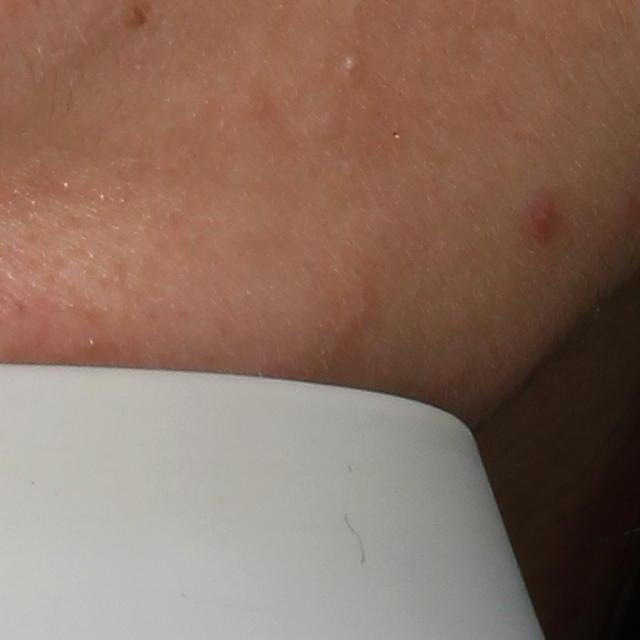comedo: (339, 52, 364, 77)
